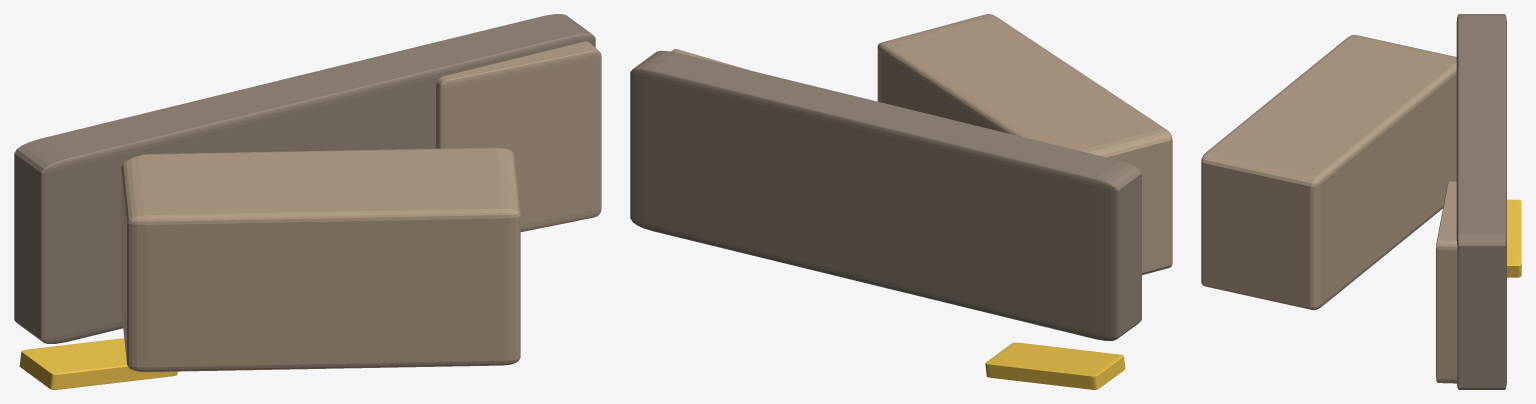
File: d-x01-dominion-tactical-lod2.glb
3 views of the same model, side by side, from view 1: azimuth 30°, elevation 25°; view 2: azimuth 150°, elevation 25°; view 3: azimuth 270°, elevation 25° (orthographic). The views are drawn at different scales.
Parts seen in each view (by area): view 1: tactical_canister, strategic_lower, strategic_nose, strategic_jack_-1; view 2: strategic_lower, tactical_canister, strategic_jack_-1; view 3: tactical_canister, strategic_lower, strategic_nose, strategic_jack_-1.
Part boxes in pixels (x1,y1,x2,y2): tactical_canister: (121, 147, 520, 371); strategic_lower: (14, 14, 595, 343); strategic_nose: (436, 41, 601, 231); strategic_jack_-1: (19, 338, 177, 389); strategic_lower: (630, 50, 1141, 340); tactical_canister: (877, 14, 1172, 275); strategic_jack_-1: (985, 342, 1125, 389); tactical_canister: (1201, 34, 1456, 310); strategic_lower: (1456, 14, 1506, 389); strategic_nose: (1436, 181, 1457, 383); strategic_jack_-1: (1507, 199, 1521, 277).
Size of what is drawn, in the model's own units: 9.99 by 4.26 by 5.88.
